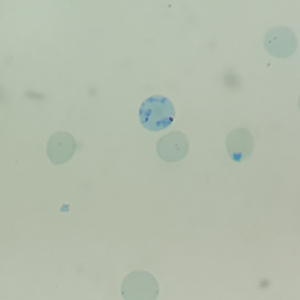aggregate reticulocyte: (137, 95, 177, 133)
erythrocyte: (223, 127, 256, 163)
punctate reticulocyte: (262, 25, 299, 60), (155, 130, 190, 164), (45, 130, 78, 166)
